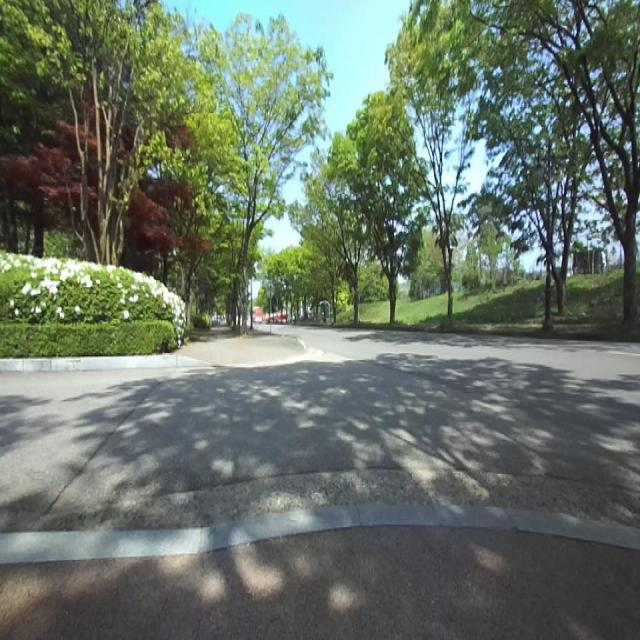sidewalk: (0, 506, 640, 639), (179, 325, 307, 364)
